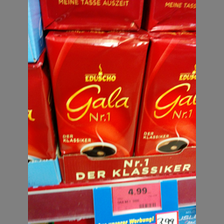coffee: (44, 30, 148, 157), (135, 32, 197, 154)
